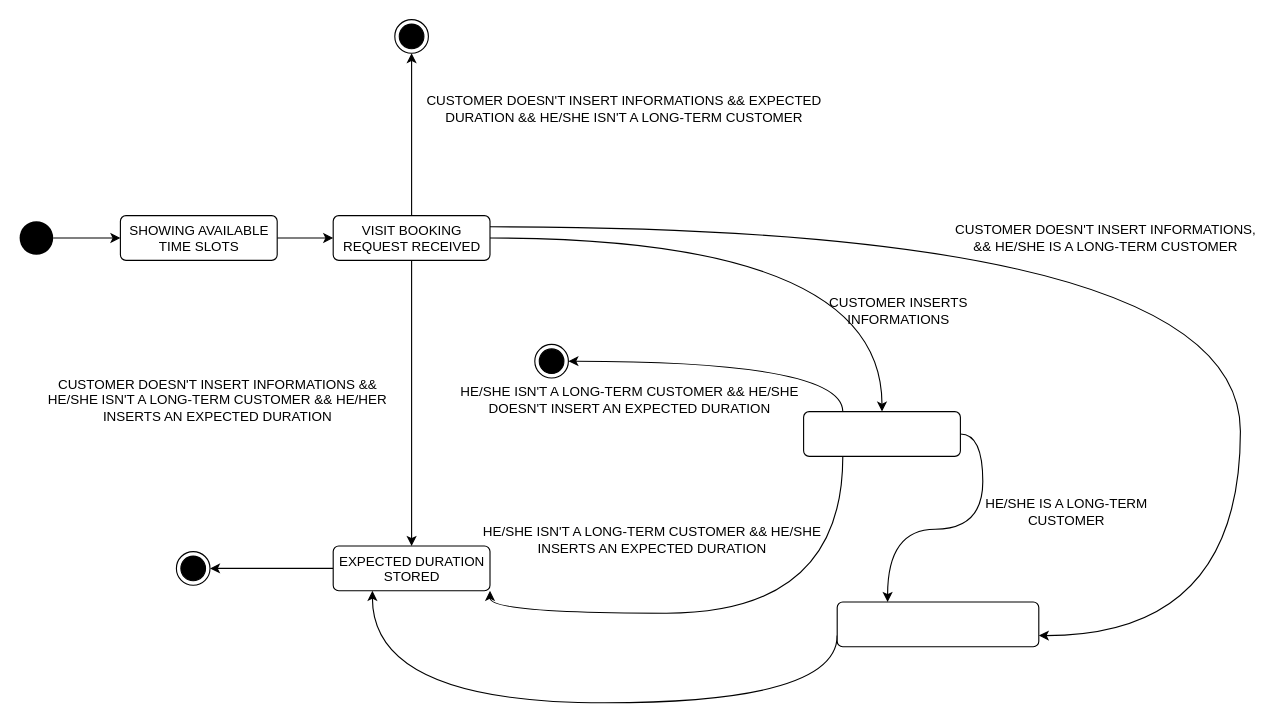
Some shapes in this 1281 by 722 pixel diagram are drawn without their labels. Each missing label, with the centre of its shape:
"EXPECTED VISIT DURATION CALCULATION" goes at [937,624].
"VISIT INFORMATIONS STORED" goes at [881,433].
